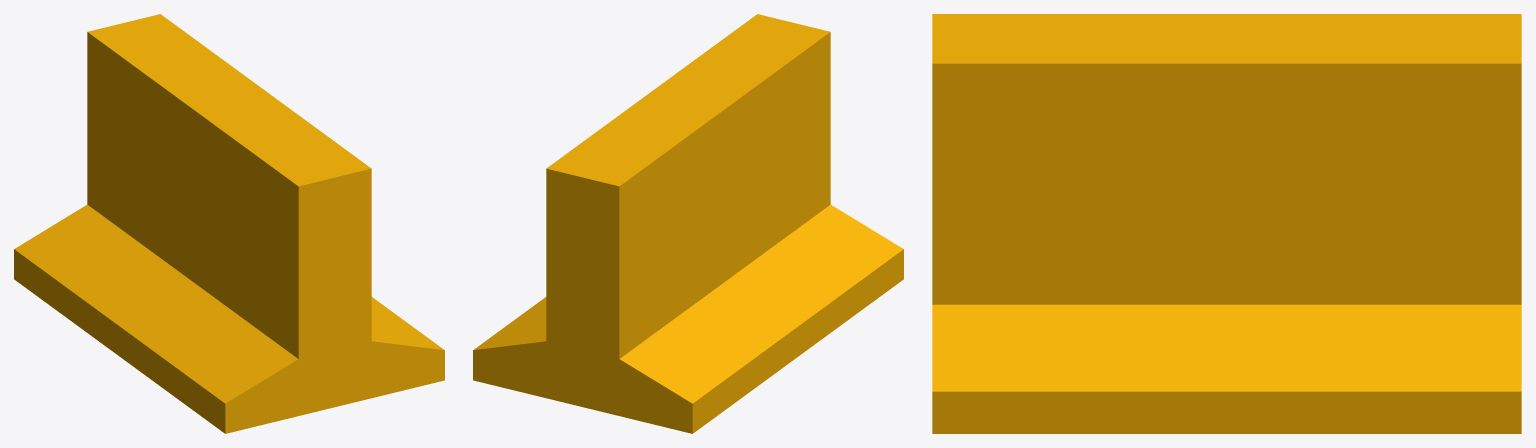
The model's file is barrier_yellow_no.fbx.
3 views of the same model, side by side, from view 1: azimuth 30°, elevation 25°; view 2: azimuth 150°, elevation 25°; view 3: azimuth 270°, elevation 25° (orthographic). The views are drawn at different scales.
Visible parts, largest first — view 1: Cube.064; view 2: Cube.064; view 3: Cube.064.
Part boxes in pixels (x1=…): Cube.064: x1=14, y1=14, x2=444, y2=433; Cube.064: x1=473, y1=14, x2=903, y2=433; Cube.064: x1=932, y1=14, x2=1521, y2=433.
Size of the model in its own units: 300 by 300 by 500.
Materials: 1 (1 with a texture image).
